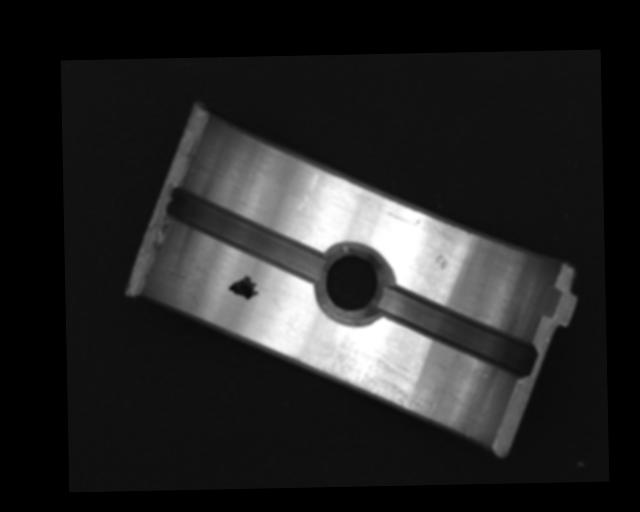blot: (227, 274, 260, 301)
bruise: (432, 252, 448, 270)
gap: (167, 186, 323, 284), (380, 287, 536, 379)
hole: (318, 243, 390, 326)
nick: (289, 172, 319, 221)
scratch: (304, 334, 434, 421)
